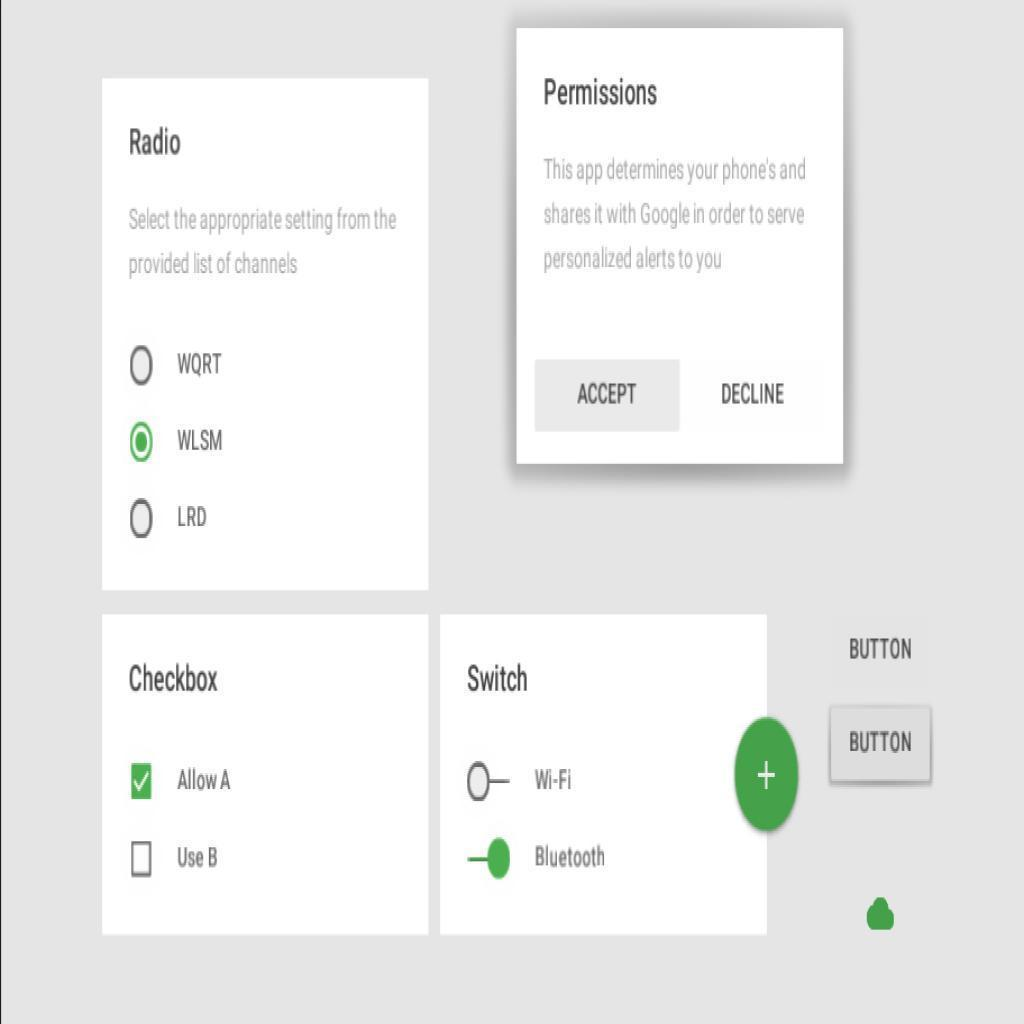button: (536, 357, 680, 432), (830, 705, 931, 782)
checkbox: (131, 763, 152, 799), (131, 842, 152, 876)
icon: (865, 894, 897, 935), (756, 759, 776, 792)
label: (542, 75, 659, 111), (128, 662, 224, 698), (464, 658, 532, 698), (533, 840, 608, 870), (847, 633, 916, 663), (124, 128, 183, 159), (720, 381, 785, 409), (173, 348, 224, 379), (174, 769, 234, 793), (175, 426, 224, 454), (176, 841, 220, 872), (531, 765, 577, 794), (176, 504, 208, 531)
radio: (128, 345, 155, 387), (131, 422, 154, 464), (130, 499, 153, 538)
switch: (469, 837, 511, 880), (466, 760, 510, 801)
